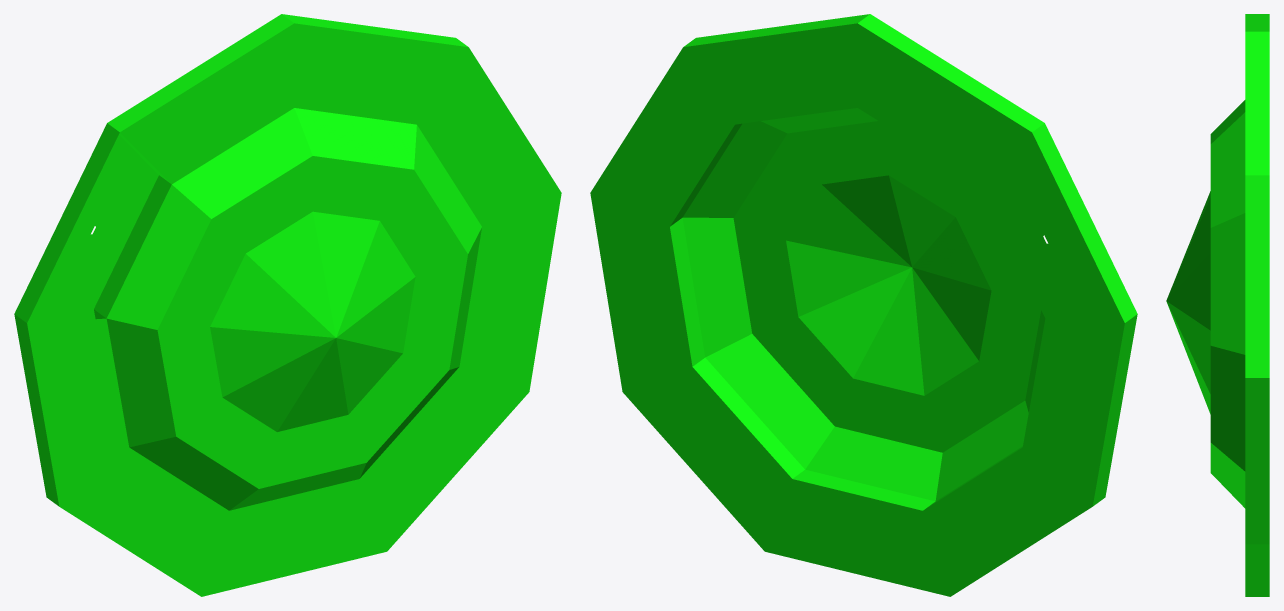
File: enemy2.glb
The picture shows the model from 3 angles, left to right: view 1: azimuth 30°, elevation 25°; view 2: azimuth 150°, elevation 25°; view 3: azimuth 270°, elevation 25°; orthographic projection. The views are drawn at different scales.
Parts seen in each view (by area): view 1: enemy; view 2: enemy; view 3: enemy.
Boxes of the visible parts, x1=… form: enemy: x1=14, y1=14, x2=561, y2=596; enemy: x1=590, y1=14, x2=1137, y2=596; enemy: x1=1166, y1=14, x2=1269, y2=596.
Size of the model in its own units: 1.97 by 1.94 by 0.3482.
Materials: 1 (1 with a texture image).
